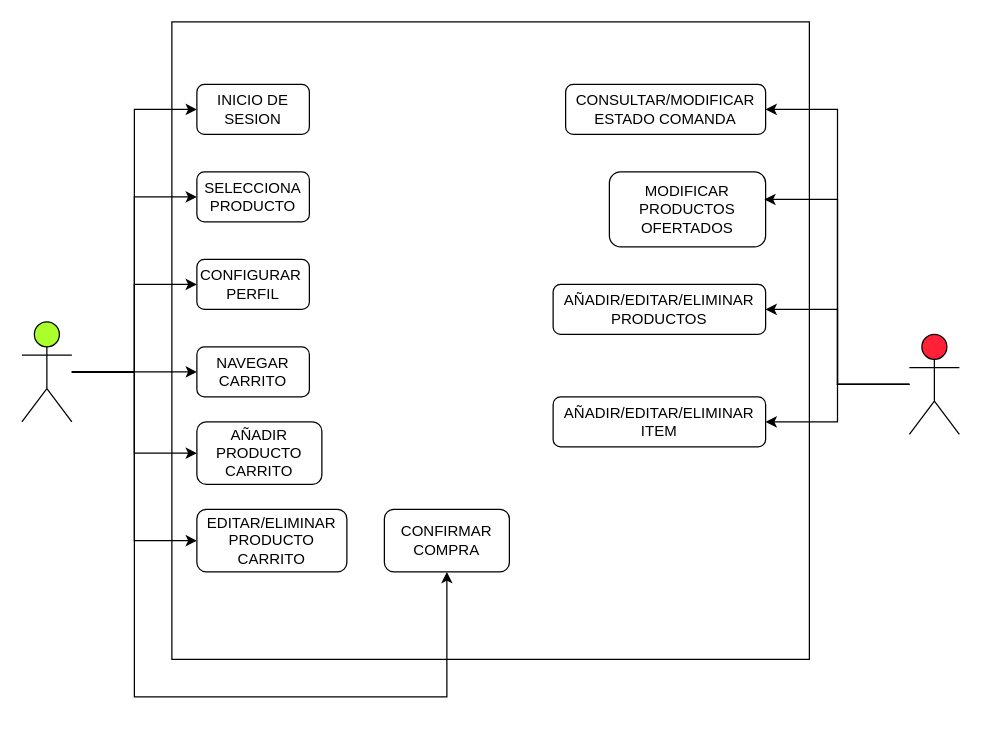
This 981x729 diagram has some shape labels left out. The shapes that lost their labels are listed below. From the top down, each one's centre as x and y in pixels, then its label:
At point 46,371: "Usuari".
At point 933,383: "Admin".
